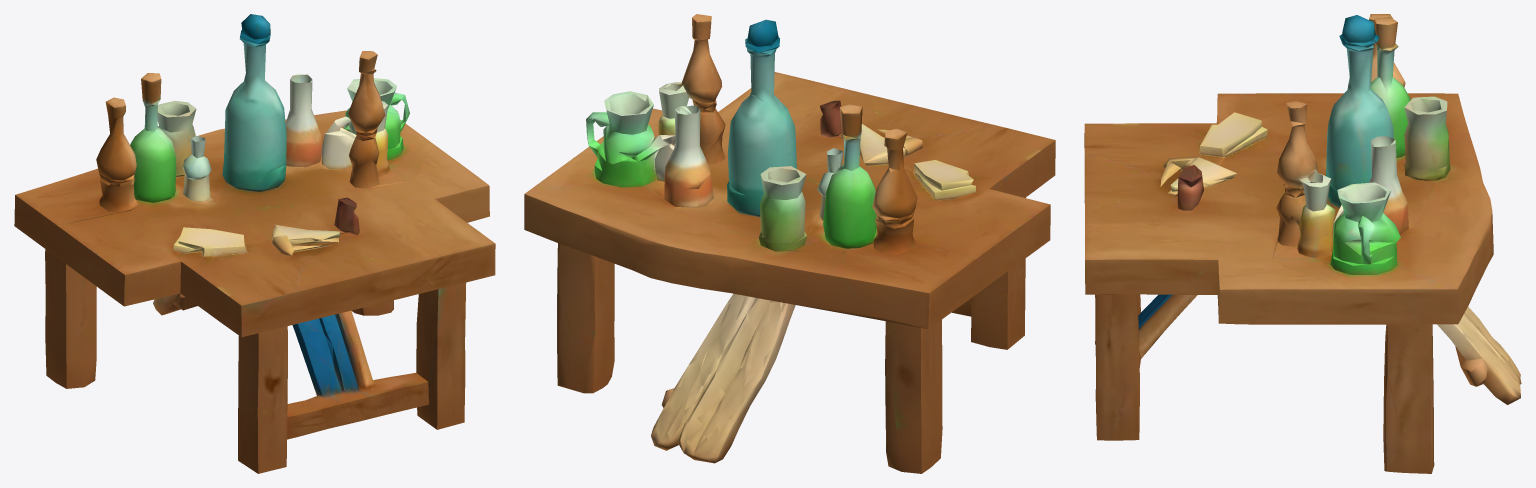
Rendered from alchemyTable.glb.
3 views of the same model, side by side, from view 1: azimuth 30°, elevation 25°; view 2: azimuth 150°, elevation 25°; view 3: azimuth 270°, elevation 25° (orthographic). The views are drawn at different scales.
Visible parts, largest first — view 1: model; view 2: model; view 3: model.
Part boxes in pixels (box(x1,y1,x2,y2)): model: box(14, 14, 495, 473); model: box(524, 14, 1055, 473); model: box(1084, 14, 1521, 473).
Size of the model in its own units: 1.89 by 1.7 by 1.78.
1 material, 1 textured.
